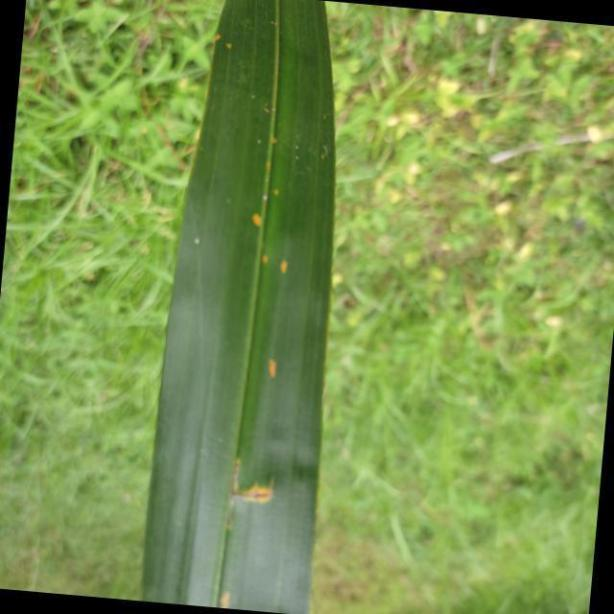Boron: (147, 3, 336, 614)
